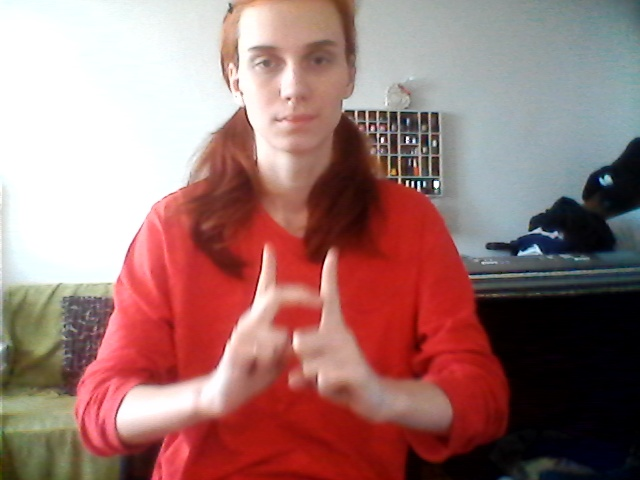h: (235, 235, 366, 423)
